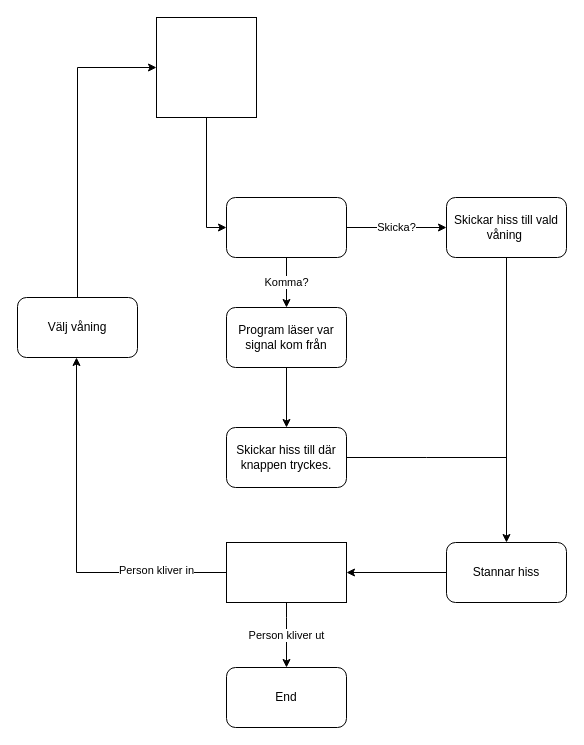
This 584x745 diagram has some shape labels left out. Each missing label, with the centre of its shape:
"Hiss öppnar sina dörrar" goes at (286,572).
"Skickar signal till program" goes at (286,227).
"Trycker på hiss knapp" goes at (206,67).
